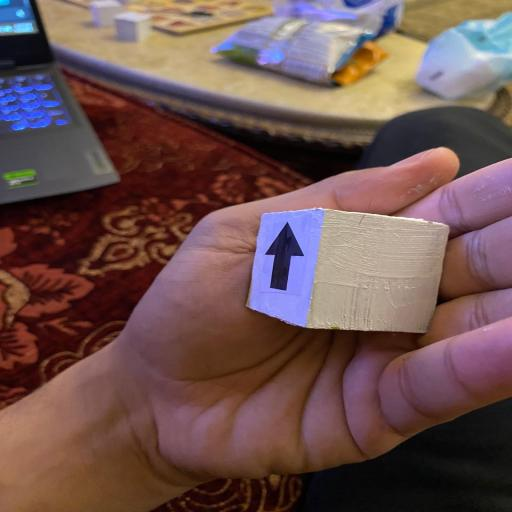Up: (246, 206, 450, 334)
